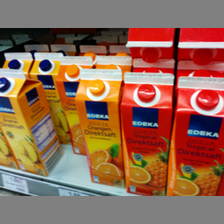juice: (119, 72, 175, 197), (1, 68, 64, 178), (166, 76, 221, 196), (76, 68, 125, 187)
